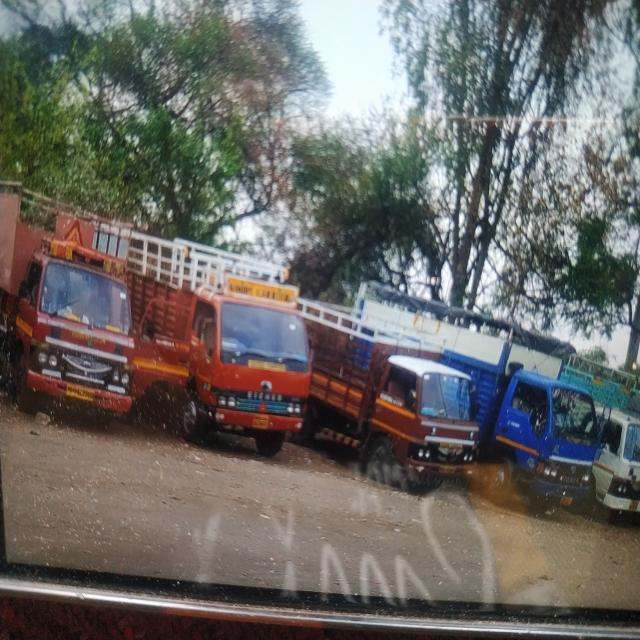Truck: (177, 32, 308, 190), (172, 242, 281, 417), (138, 481, 220, 640)
